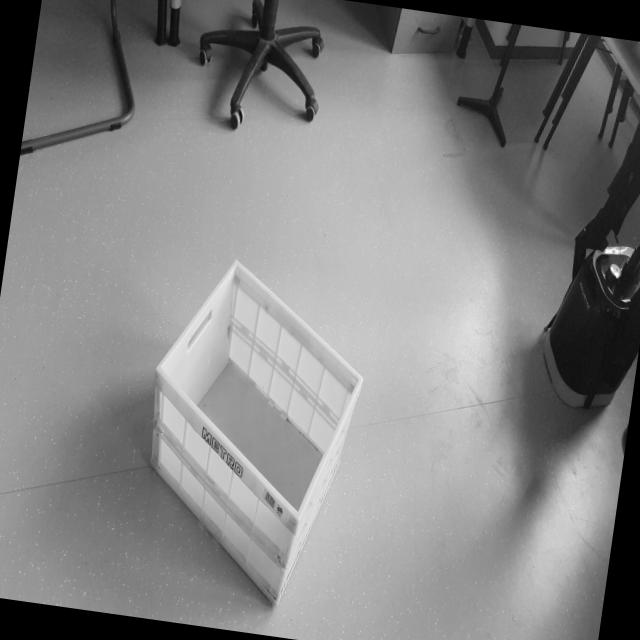box: (114, 240, 380, 634)
